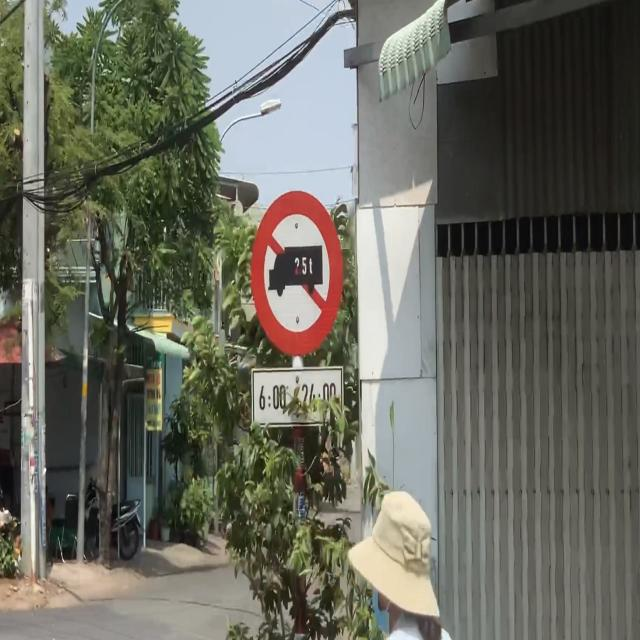Cam con lai: (250, 188, 344, 360)
